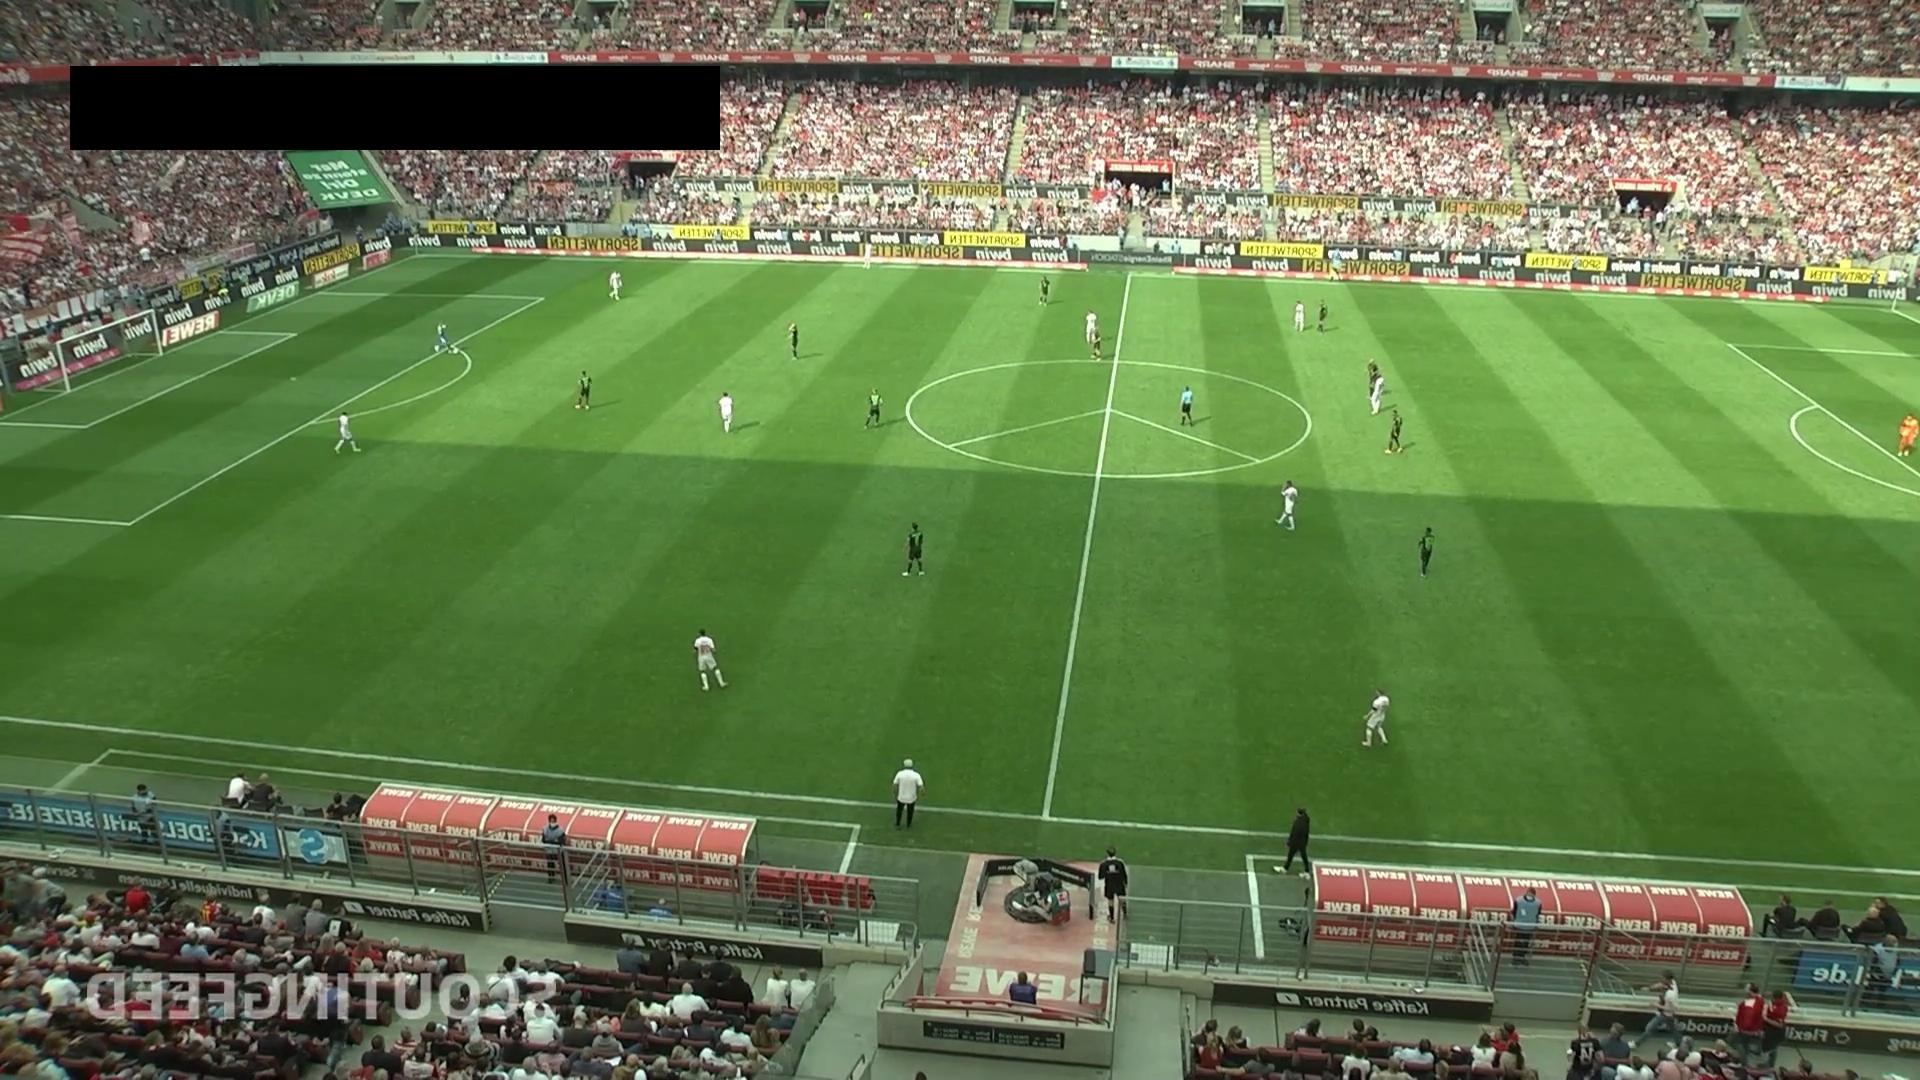ball: (452, 345, 460, 354)
goalkeeper: (1896, 413, 1919, 457), (433, 321, 452, 353)
player: (693, 627, 729, 691), (1361, 686, 1390, 747), (903, 521, 926, 576), (1276, 478, 1299, 530), (334, 411, 361, 454), (1418, 526, 1435, 578), (1387, 408, 1403, 453), (865, 387, 882, 428), (575, 369, 592, 410), (718, 391, 734, 433), (1371, 374, 1385, 415), (1368, 358, 1381, 400), (1085, 307, 1099, 344), (786, 321, 799, 359), (860, 239, 875, 271), (608, 269, 623, 300), (1038, 276, 1051, 306), (1091, 325, 1102, 360), (1293, 301, 1304, 333), (1317, 300, 1328, 331)
referee: (1327, 245, 1346, 284), (1179, 384, 1194, 426)
